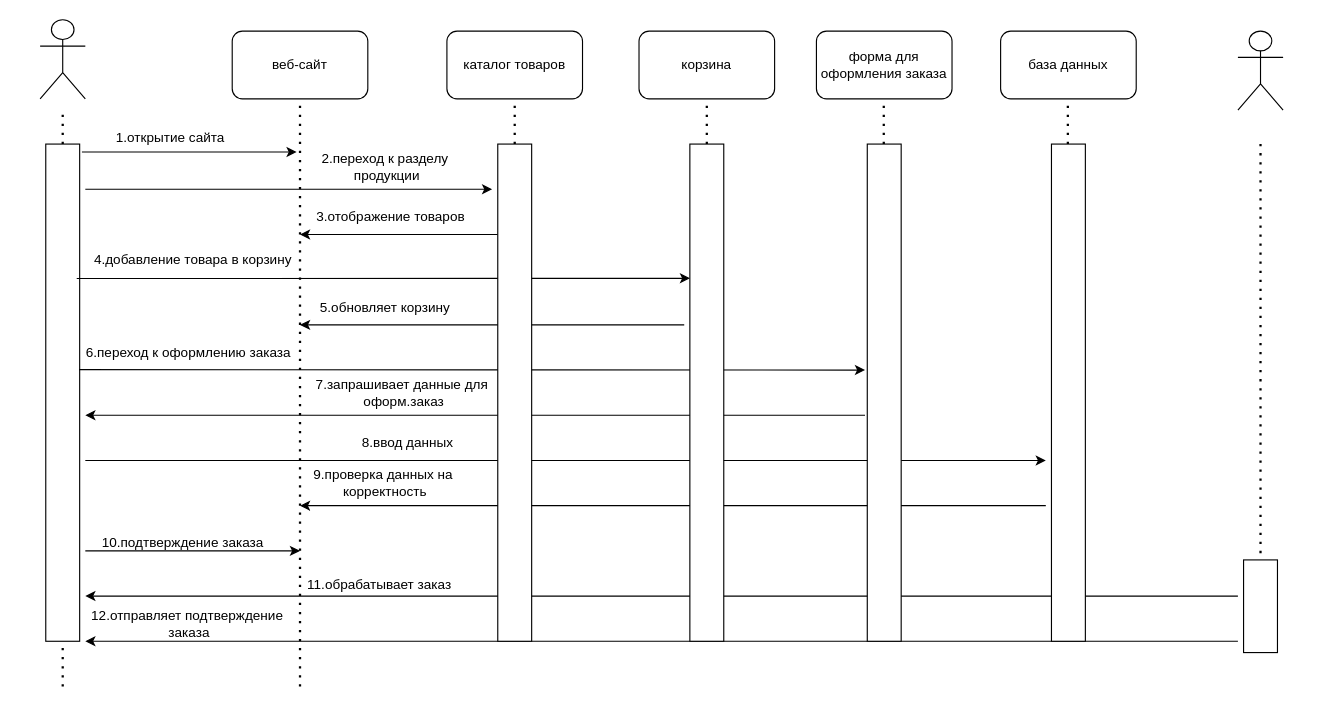
This 1328x709 diagram has some shape labels left out. Each missing label, with the centre of its shape:
администратор: (1260,70)
пользователь: (62,59)
